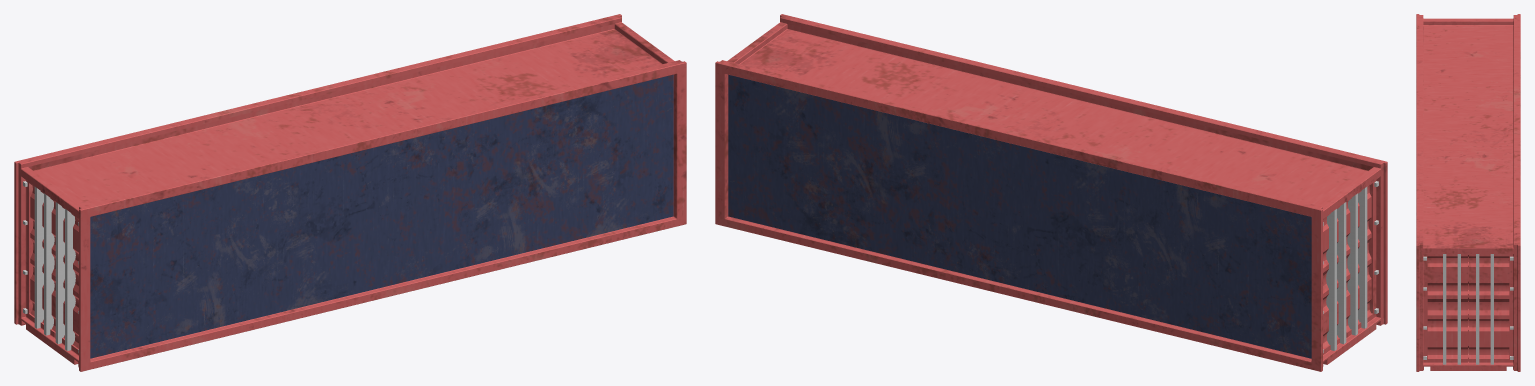
The model's file is darkBlueBigCrate.fbx.
3 renders of one model, left to right at view 1: azimuth 30°, elevation 25°; view 2: azimuth 150°, elevation 25°; view 3: azimuth 270°, elevation 25°, orthographic. The views are drawn at different scales.
Visible parts, largest first — view 1: darkBlueCrateBig_lo; view 2: darkBlueCrateBig_lo; view 3: darkBlueCrateBig_lo.
Part boxes in pixels (x1=…): darkBlueCrateBig_lo: x1=14, y1=14, x2=686, y2=371; darkBlueCrateBig_lo: x1=715, y1=14, x2=1387, y2=371; darkBlueCrateBig_lo: x1=1416, y1=14, x2=1520, y2=371.
Size of the model in its own units: 12.1 by 3.09 by 2.3.
